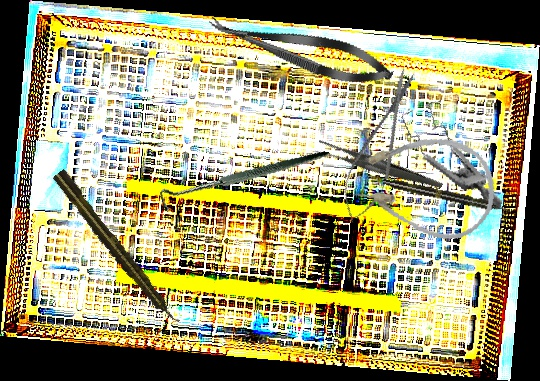Cannula: (346, 122, 504, 248)
Dressing Forceps: (312, 109, 444, 225)
Handpiece: (51, 167, 183, 330), (381, 176, 512, 216)
Hook Surgical: (155, 117, 332, 245)
Micro Scissor: (203, 4, 398, 95), (331, 62, 429, 230)
Speculum: (383, 91, 526, 211)
